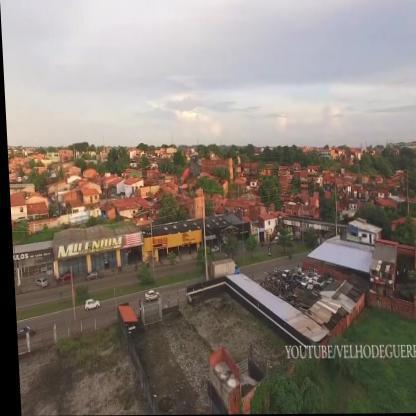lixo: (290, 265, 323, 294), (263, 273, 292, 302)
